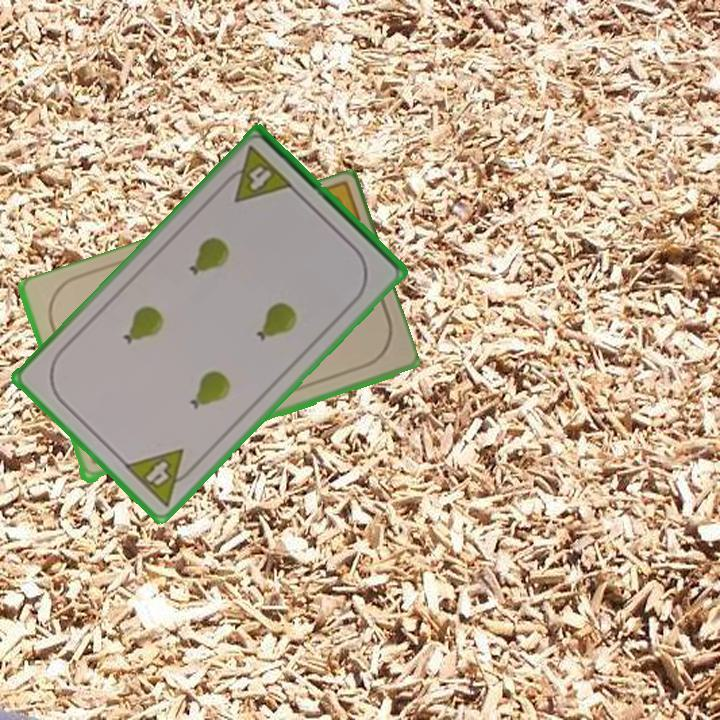4p: (120, 445, 201, 511), (218, 143, 297, 206)
